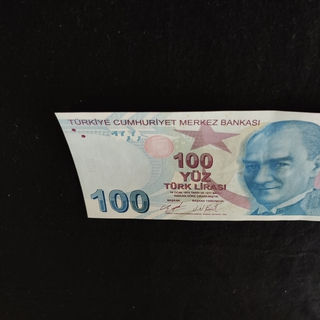100TLFront: (54, 111, 320, 222)
